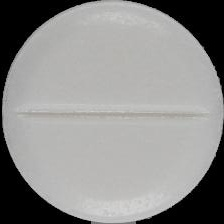43353-657: (0, 0, 224, 224)
